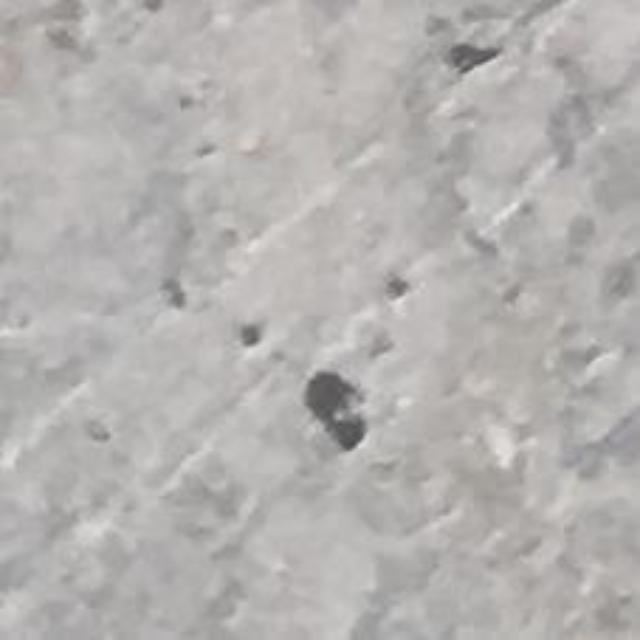peeling plaster: (305, 370, 366, 451)
